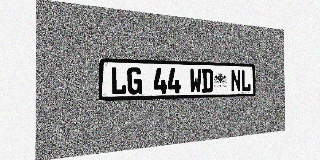4: (154, 68, 167, 94), (168, 68, 181, 94)
D: (202, 69, 213, 93)
G: (127, 67, 142, 95)
L: (111, 67, 126, 95), (241, 70, 251, 92)
N: (231, 69, 241, 92)
W: (190, 68, 201, 93)
